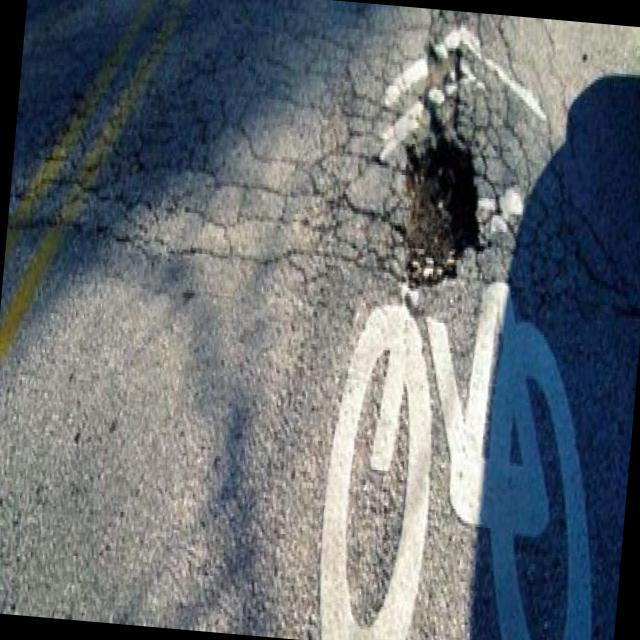Pothole: (391, 114, 497, 302)
